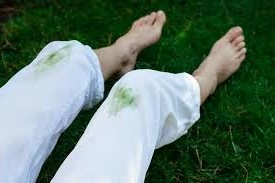earth: (116, 88, 134, 106), (46, 50, 63, 65)
